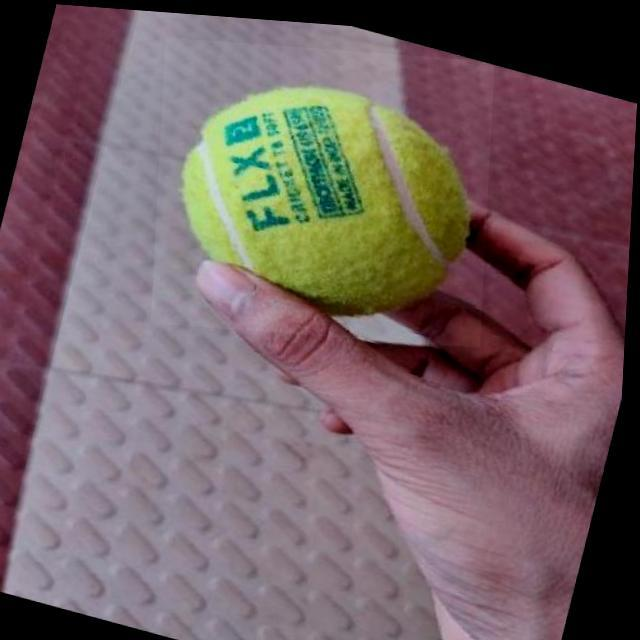-: (154, 35, 495, 340)
